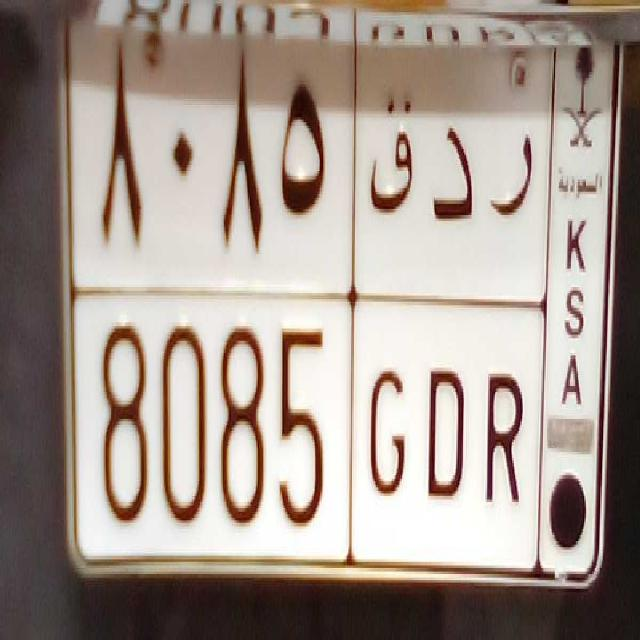license_plate: (83, 285, 534, 574)
